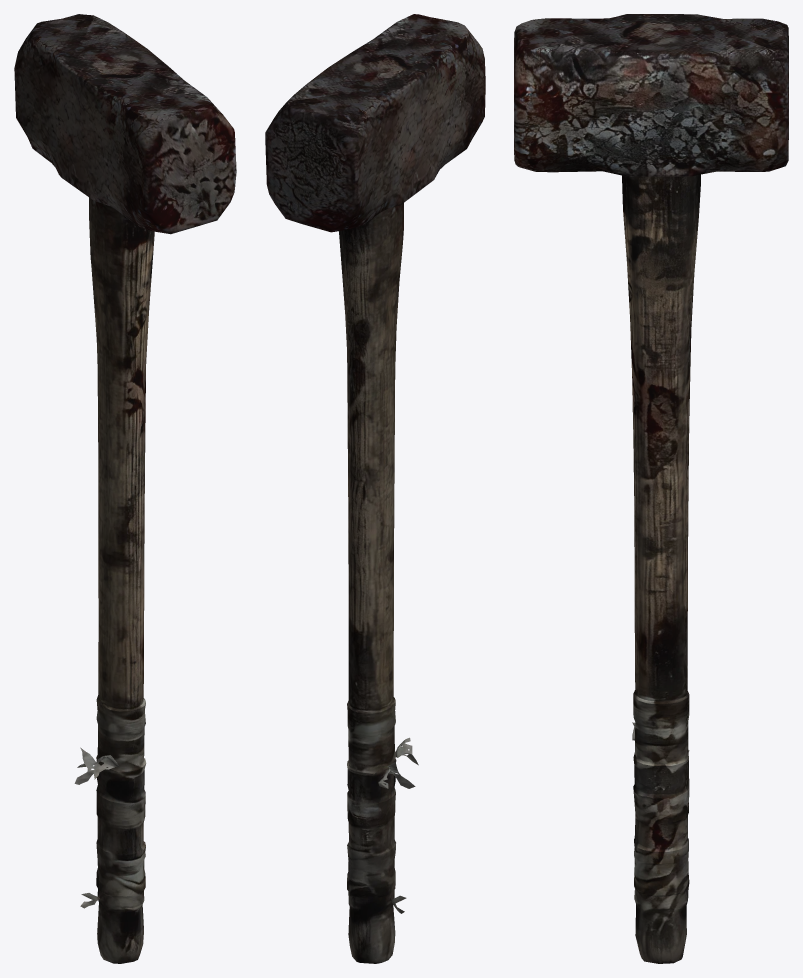
The model's file is sledge.glb.
3 renders of one model, left to right at view 1: azimuth 30°, elevation 25°; view 2: azimuth 150°, elevation 25°; view 3: azimuth 270°, elevation 25°, orthographic. The views are drawn at different scales.
Visible parts, largest first — view 1: model; view 2: model; view 3: model.
Boxes of the visible parts, x1,y1,x2,y2 form: model: (14, 14, 236, 963); model: (265, 14, 485, 963); model: (514, 14, 788, 963).
Size of the model in its own units: 0.1141 by 1.05 by 0.284.
1 material, 1 textured.
